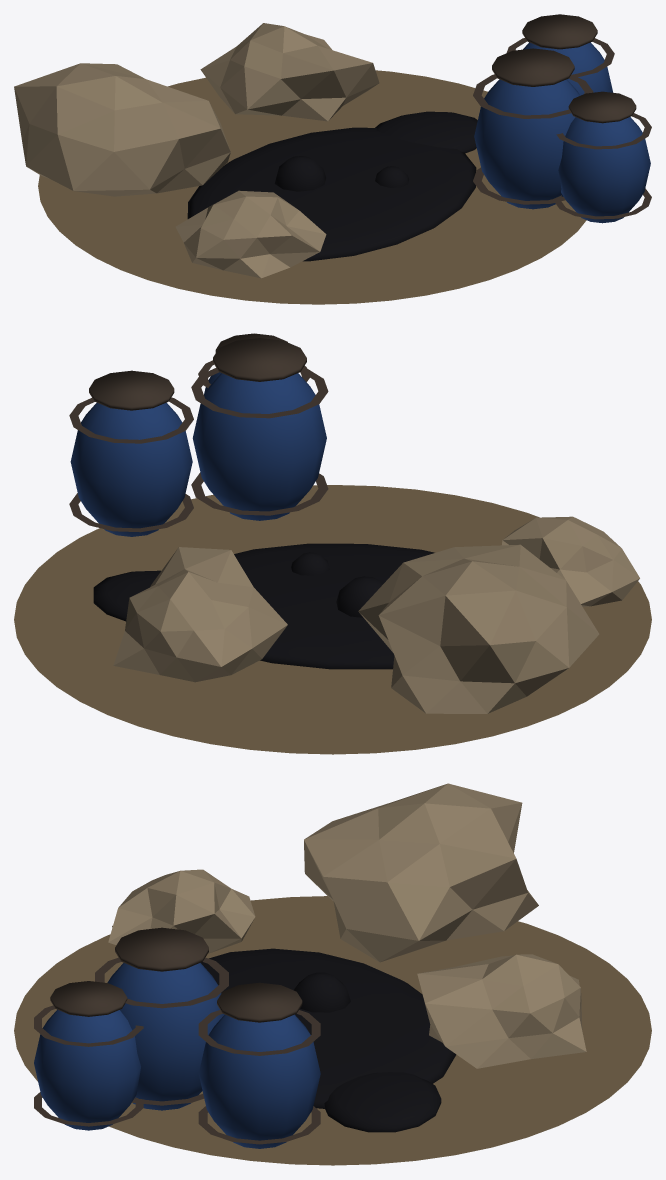
Rendered from resource_oil.fbx.
3 views of the same model, one above another, from view 1: azimuth 30°, elevation 25°; view 2: azimuth 150°, elevation 25°; view 3: azimuth 270°, elevation 25° (orthographic). The views are drawn at different scales.
Visible parts, largest first — view 1: resource_oil_rock#8a7a62_02, resource_oil_sg#6a5a42_00, resource_oil_oilpool_01, resource_oil_wood#1f3a6a_03, resource_oil_hoop.001_04; view 2: resource_oil_sg#6a5a42_00, resource_oil_rock#8a7a62_02, resource_oil_wood#1f3a6a_03, resource_oil_oilpool_01, resource_oil_hoop.001_04; view 3: resource_oil_rock#8a7a62_02, resource_oil_sg#6a5a42_00, resource_oil_wood#1f3a6a_03, resource_oil_oilpool_01, resource_oil_hoop.001_04.
Boxes of the visible parts, x1,y1,x2,y2 form: resource_oil_rock#8a7a62_02: [14, 23, 379, 278]; resource_oil_sg#6a5a42_00: [38, 70, 586, 304]; resource_oil_oilpool_01: [187, 111, 477, 261]; resource_oil_wood#1f3a6a_03: [474, 42, 650, 223]; resource_oil_hoop.001_04: [473, 14, 651, 219]; resource_oil_sg#6a5a42_00: [14, 485, 651, 754]; resource_oil_rock#8a7a62_02: [113, 516, 639, 713]; resource_oil_wood#1f3a6a_03: [70, 372, 326, 536]; resource_oil_oilpool_01: [93, 543, 434, 669]; resource_oil_hoop.001_04: [69, 333, 328, 532]; resource_oil_rock#8a7a62_02: [108, 783, 586, 1068]; resource_oil_sg#6a5a42_00: [14, 896, 651, 1165]; resource_oil_wood#1f3a6a_03: [34, 963, 320, 1148]; resource_oil_oilpool_01: [201, 948, 456, 1132]; resource_oil_hoop.001_04: [34, 927, 320, 1144].
Bounding box in the file's own units: 109 × 31.82 × 104.
